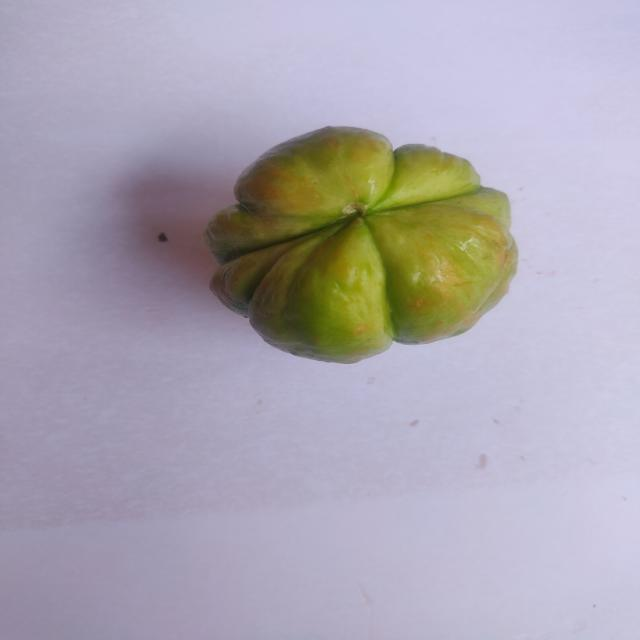Chayote: (178, 117, 550, 370)
